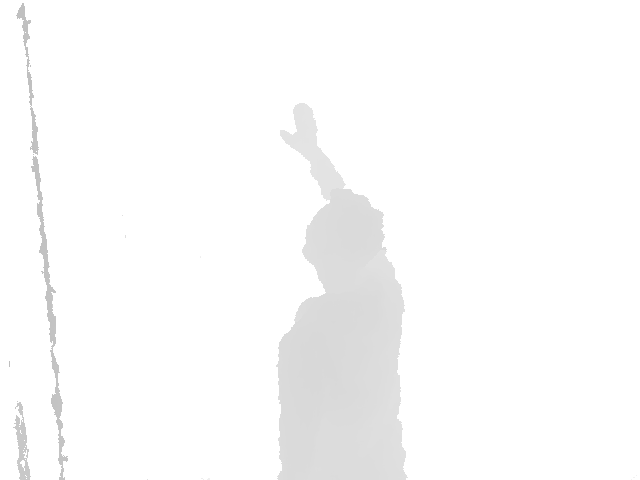hand: (279, 102, 318, 153)
head: (302, 190, 385, 285)
person: (276, 102, 409, 480)
